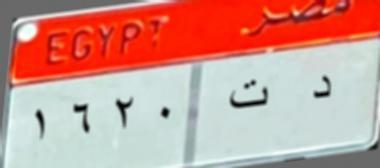0: (154, 100, 178, 135)
1: (26, 101, 54, 142)
2: (105, 92, 142, 133)
6: (66, 96, 96, 145)
daal: (298, 66, 348, 118)
taa: (221, 73, 276, 124)
